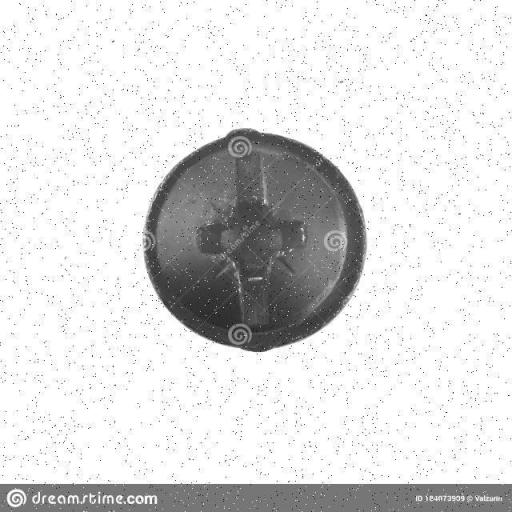Pozidriv: (138, 122, 368, 361)
